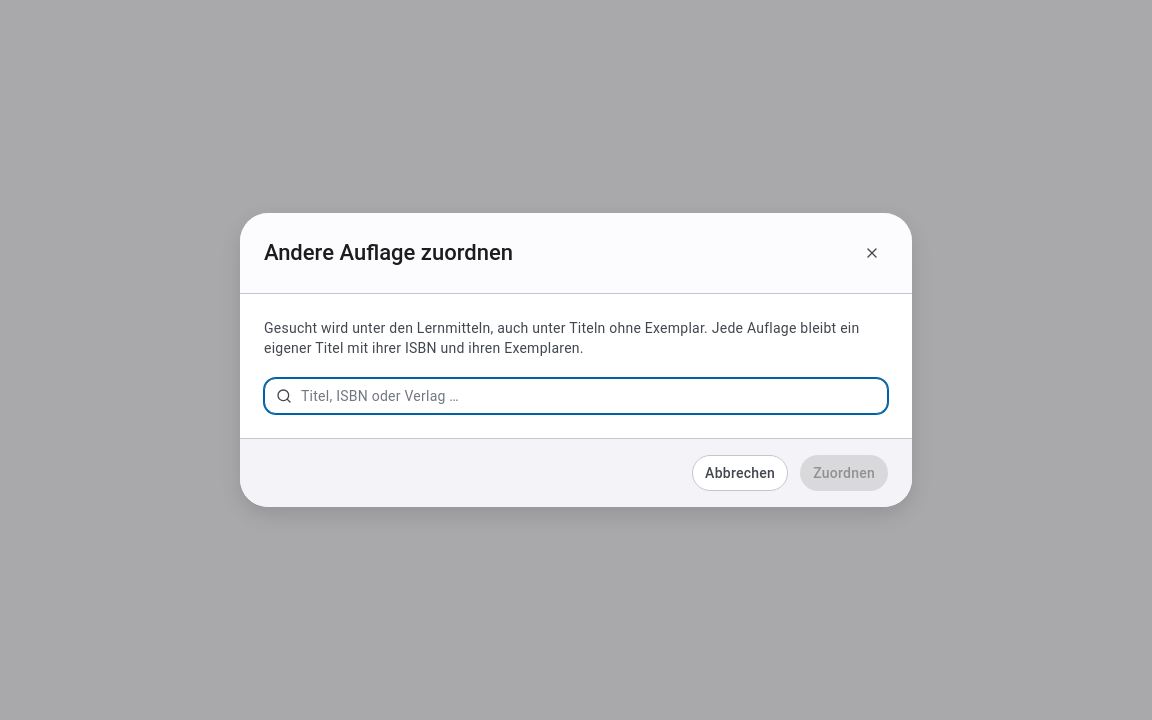
it: AuflageZuordnenDialog › behauptet nichts, wenn die Nachfrage scheitert
In the search field named "Andere Auflage suchen": (576, 396) [264,378,888,414], type "Mathe"
Wait 250 ms
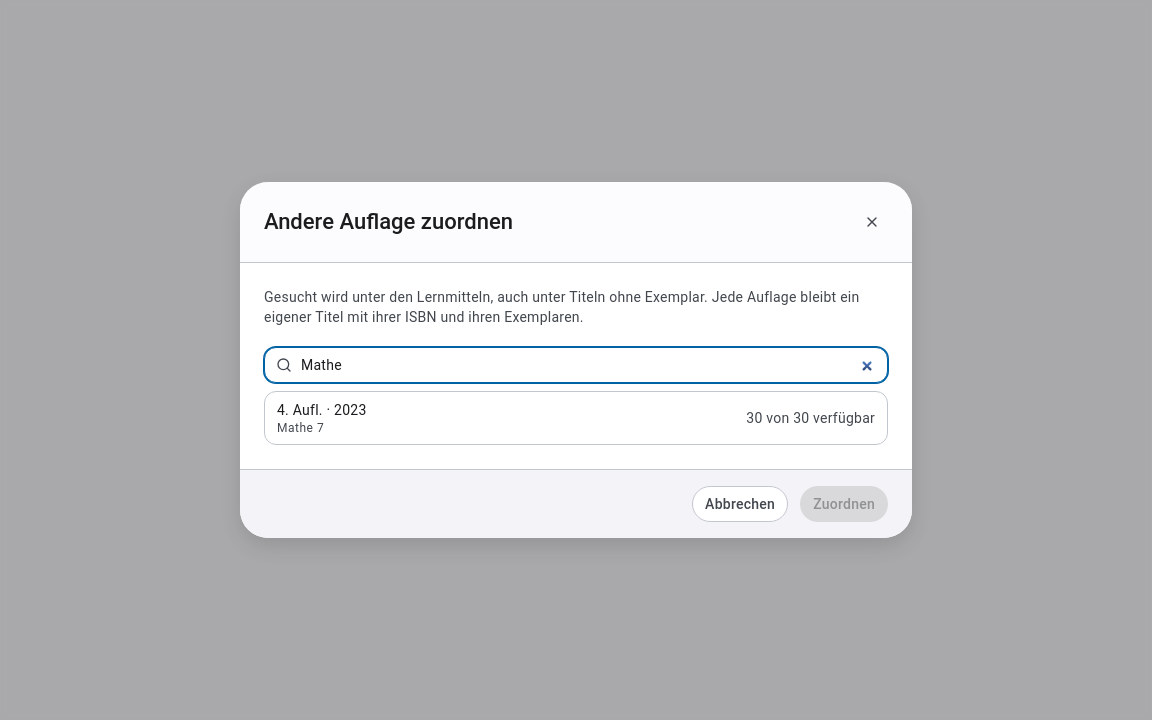
Click the button "4. Aufl. · 2023 Mathe 7 30 von 30 verfügbar": (322, 410) [265,392,887,444]
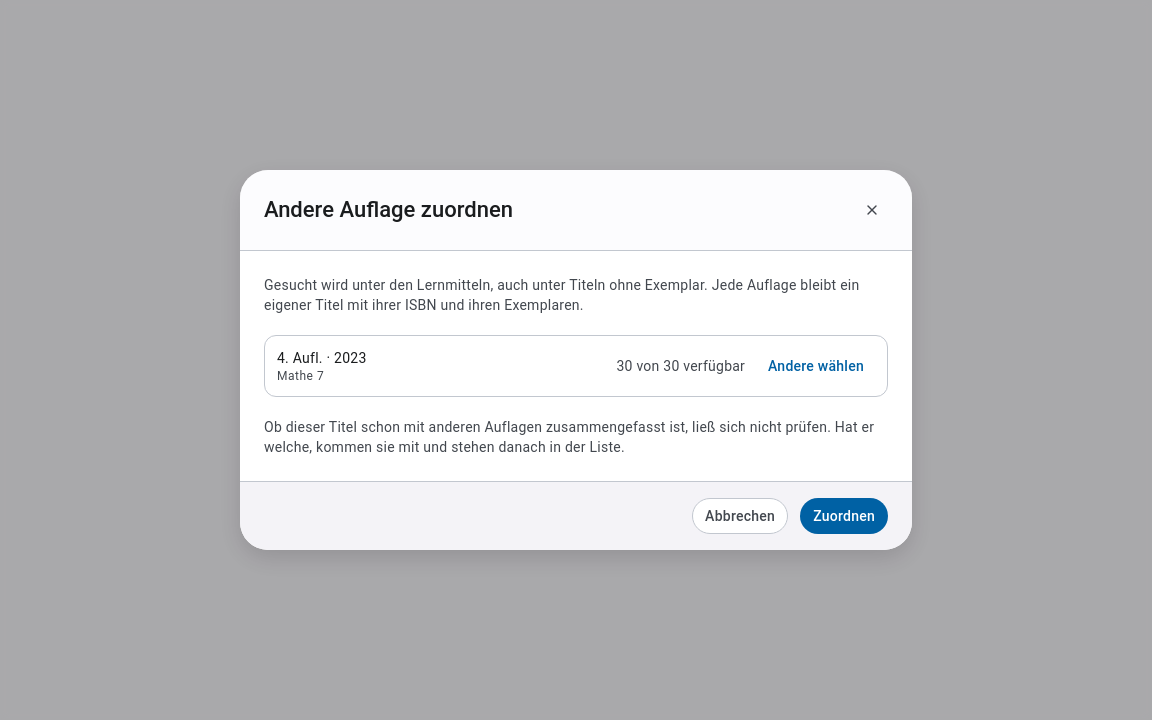
Now the text "ließ sich nicht prüfen" is shown, box [264,419,874,455]
